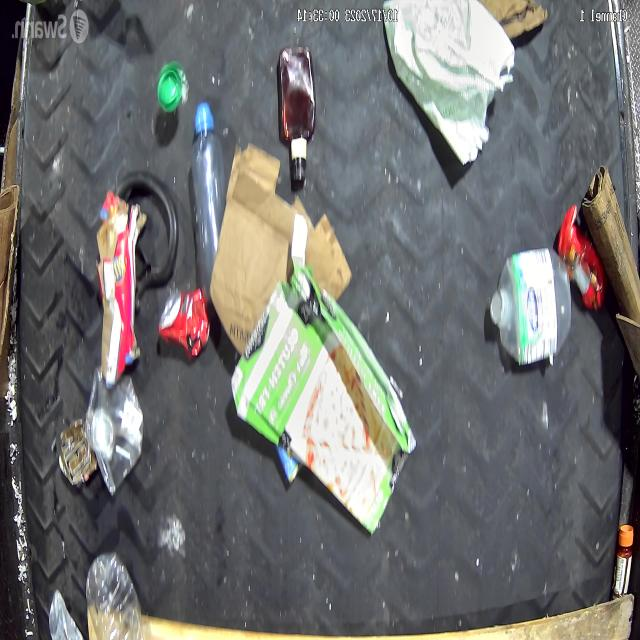can: (159, 284, 210, 358)
plastic_bottle: (192, 100, 224, 282), (85, 549, 143, 640)
